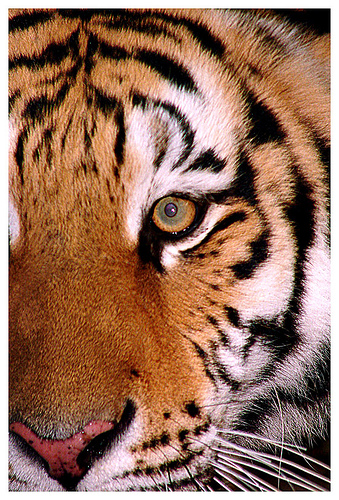Tigre: (19, 34, 300, 465)
